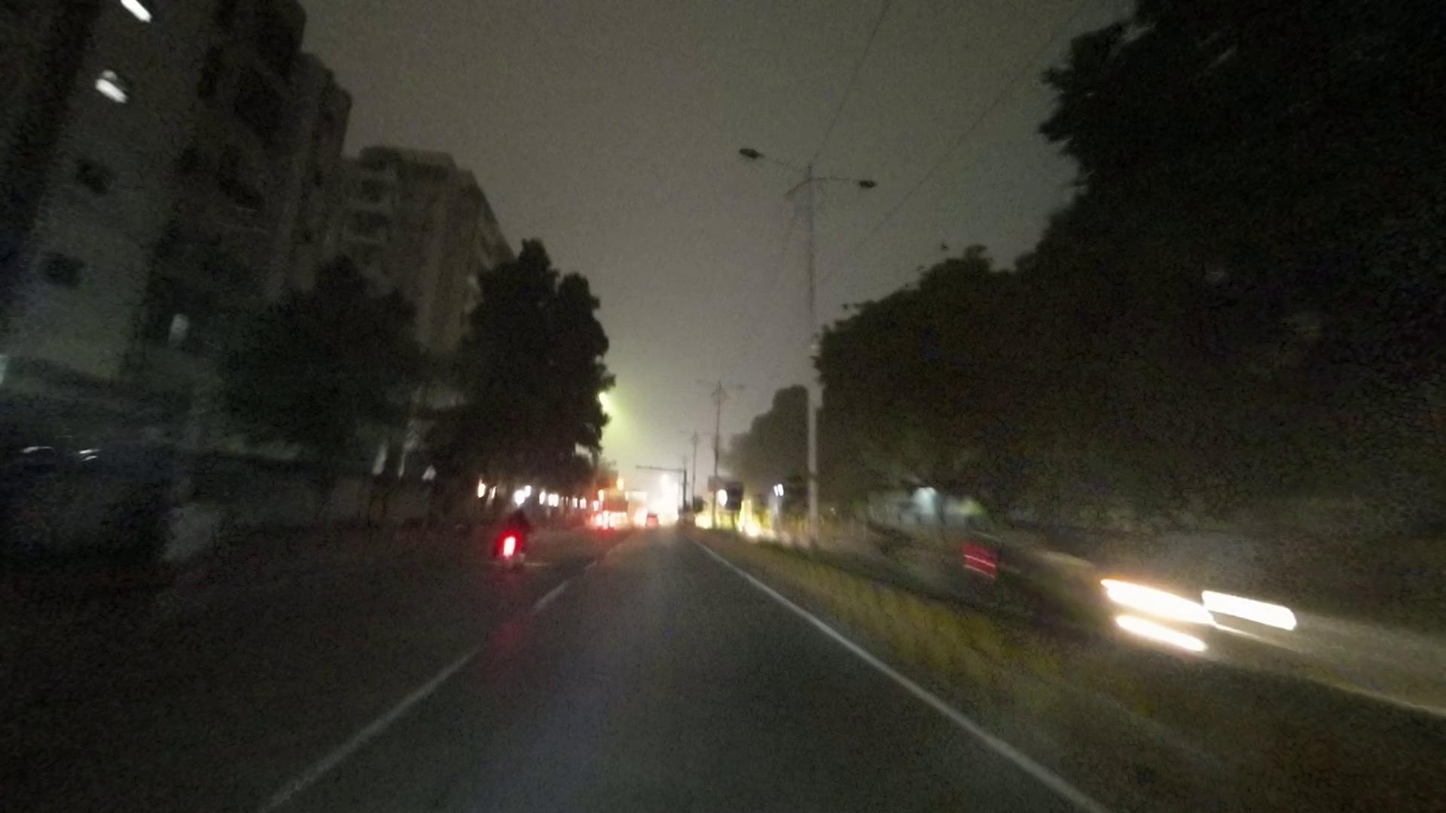streetlight: (737, 146, 806, 176), (811, 169, 879, 192)
